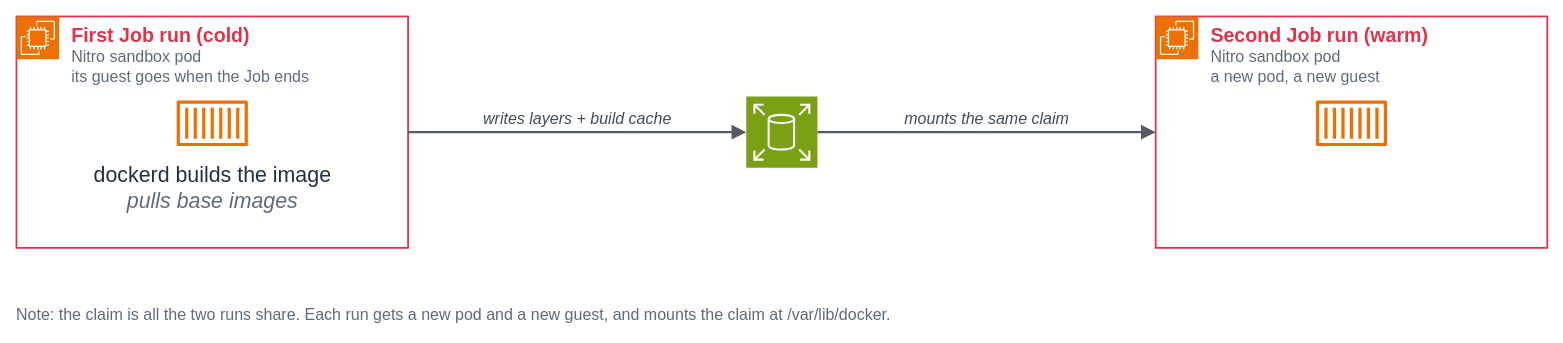
Some shapes in this 1563 by 343 pixel diagram are drawn without their labels. Each missing label, with the centre of its shape:
dockerd builds again reuses unchanged layers: point 1351,122
EBS layer cache ReadWriteOncePod claim kept between runs: point 781,132
